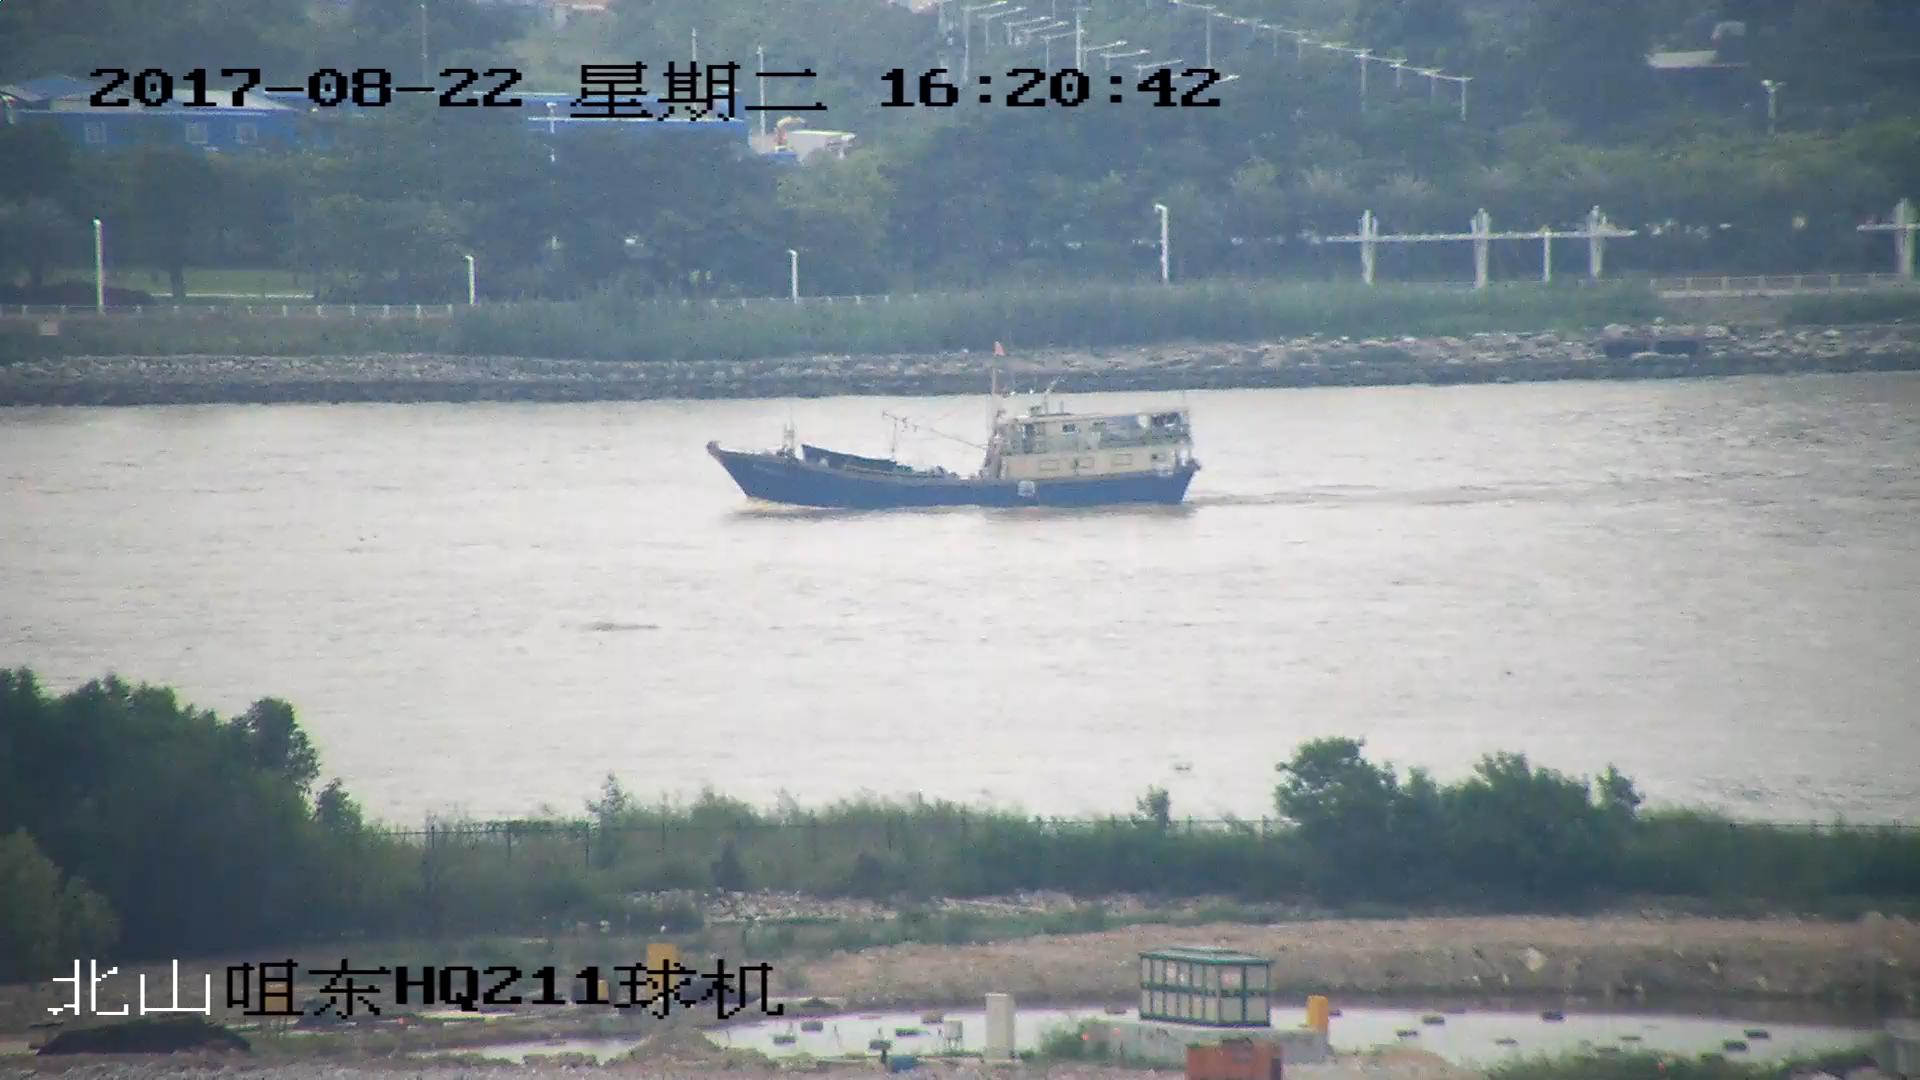fishing boat: (709, 343, 1204, 512)
